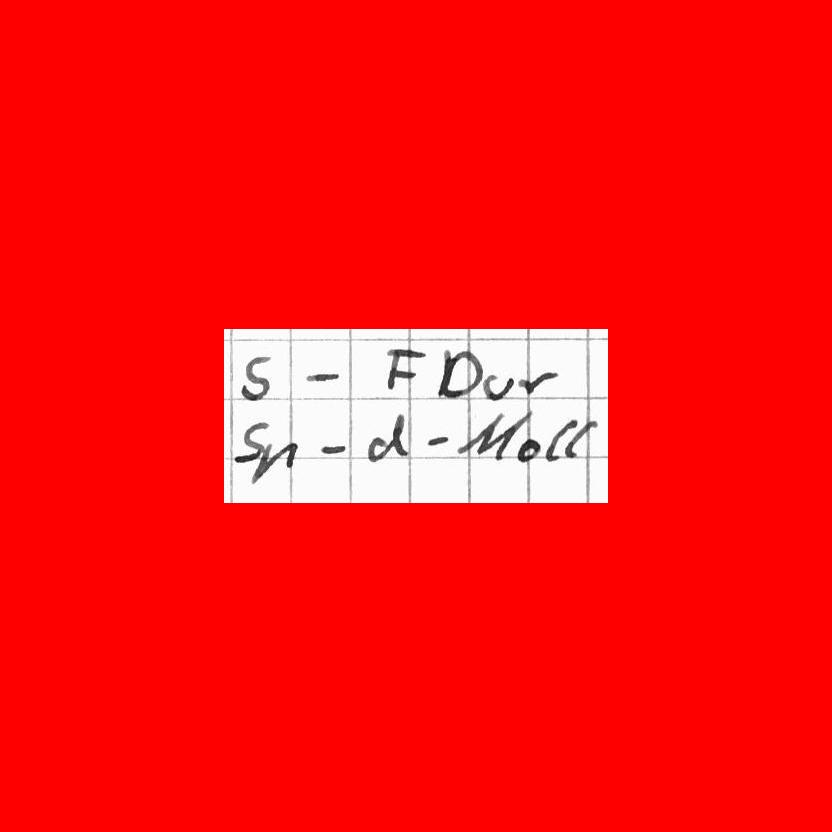Char: (234, 430, 299, 486), (462, 413, 524, 460), (437, 347, 483, 402), (546, 416, 594, 462), (382, 346, 426, 395), (367, 413, 409, 461), (238, 352, 276, 402), (518, 367, 555, 395), (483, 373, 514, 402), (305, 367, 343, 385), (516, 438, 541, 464), (425, 430, 450, 450), (319, 440, 347, 456)
